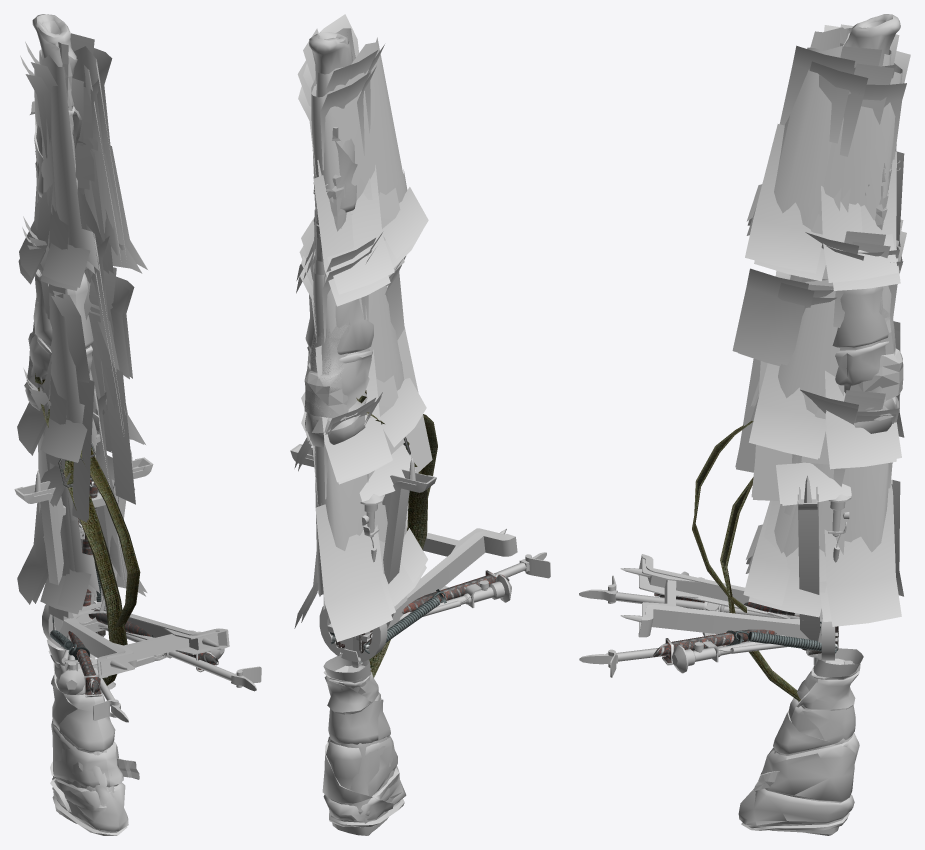
File: Bipods.fbx
3 renders of one model, left to right at view 1: azimuth 30°, elevation 25°; view 2: azimuth 150°, elevation 25°; view 3: azimuth 270°, elevation 25°, orthographic. The views are drawn at different scales.
Visible parts, largest first — view 1: GunCamo, Night_wrap_rifle, rifle_cloth, bipod_simple_open, bipod_simple, Sling, bipod_old_open, Sling.001, scrap_bipod, Cheek_pad, rifle_wrap, bipod_harris_open (+2 smaller); view 2: GunCamo, Night_wrap_rifle, rifle_cloth, rifle_wrap, bipod_simple, bipod_simple_open, scrap_bipod, bipod_harris_open, Sling, Cheek_pad, Wrap_Urban_buttstock_left_side, bipod_harris (+2 smaller); view 3: GunCamo, Night_wrap_rifle, rifle_cloth, bipod_simple_open, bipod_simple, scrap_bipod, bipod_old_open, rifle_wrap, Sling, bipod_harris_open, Sling.001, bipod_harris.
Part boxes in pixels (x1,y1,x2,y2): GunCamo: (17,33,147,620); Night_wrap_rifle: (48,647,128,835); rifle_cloth: (24,14,93,410); bipod_simple_open: (59,608,229,678); bipod_simple: (14,449,153,649); Sling: (35,373,127,685); bipod_old_open: (89,625,261,722); Sling.001: (79,441,140,627); scrap_bipod: (50,608,218,697); Cheek_pad: (52,721,114,811); rifle_wrap: (26,42,92,380); bipod_harris_open: (58,601,224,694); GunCamo: (294,14,432,642); Night_wrap_rifle: (322,665,406,827); rifle_cloth: (305,32,373,447); rifle_wrap: (304,32,350,419); bipod_simple: (290,444,436,667); bipod_simple_open: (387,506,517,629); scrap_bipod: (329,570,509,664); bipod_harris_open: (340,574,511,653); Sling: (356,390,428,677); Cheek_pad: (340,736,400,815); Wrap_Urban_buttstock_left_side: (323,654,396,835); bipod_harris: (327,494,384,657); GunCamo: (732,24,910,626); Night_wrap_rifle: (738,658,860,830); rifle_cloth: (832,14,900,433); bipod_simple_open: (620,554,809,639); bipod_simple: (797,476,835,662); scrap_bipod: (652,593,838,666); bipod_old_open: (579,575,790,677); rifle_wrap: (839,28,903,400); Sling: (720,477,800,701); bipod_harris_open: (672,571,799,673); Sling.001: (692,421,753,612); bipod_harris: (807,494,851,659).
Bounding box in the file's own units: 0.1564 × 0.6896 × 0.2557.
